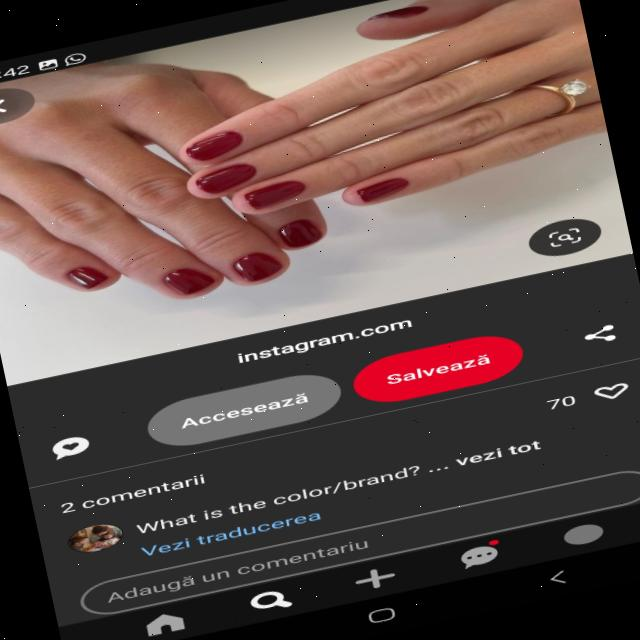hands: (124, 0, 613, 257)
